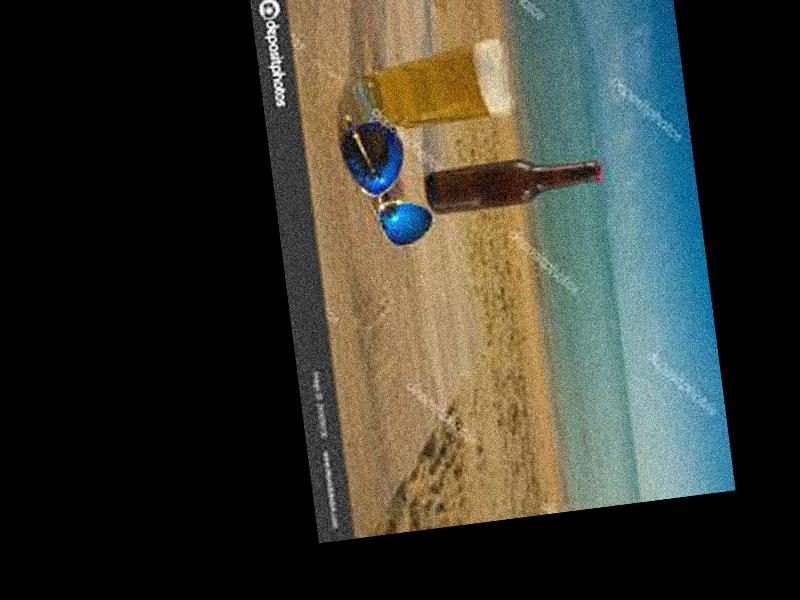Beer: (425, 149, 604, 215)
